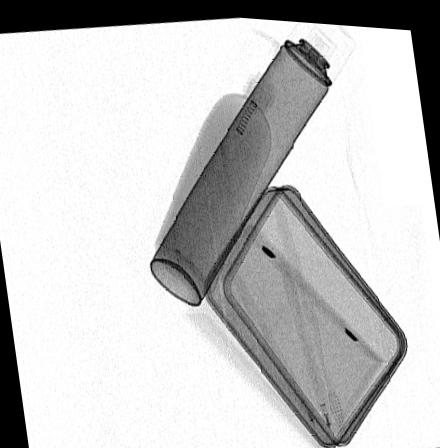Sprayer: (150, 17, 357, 303)
